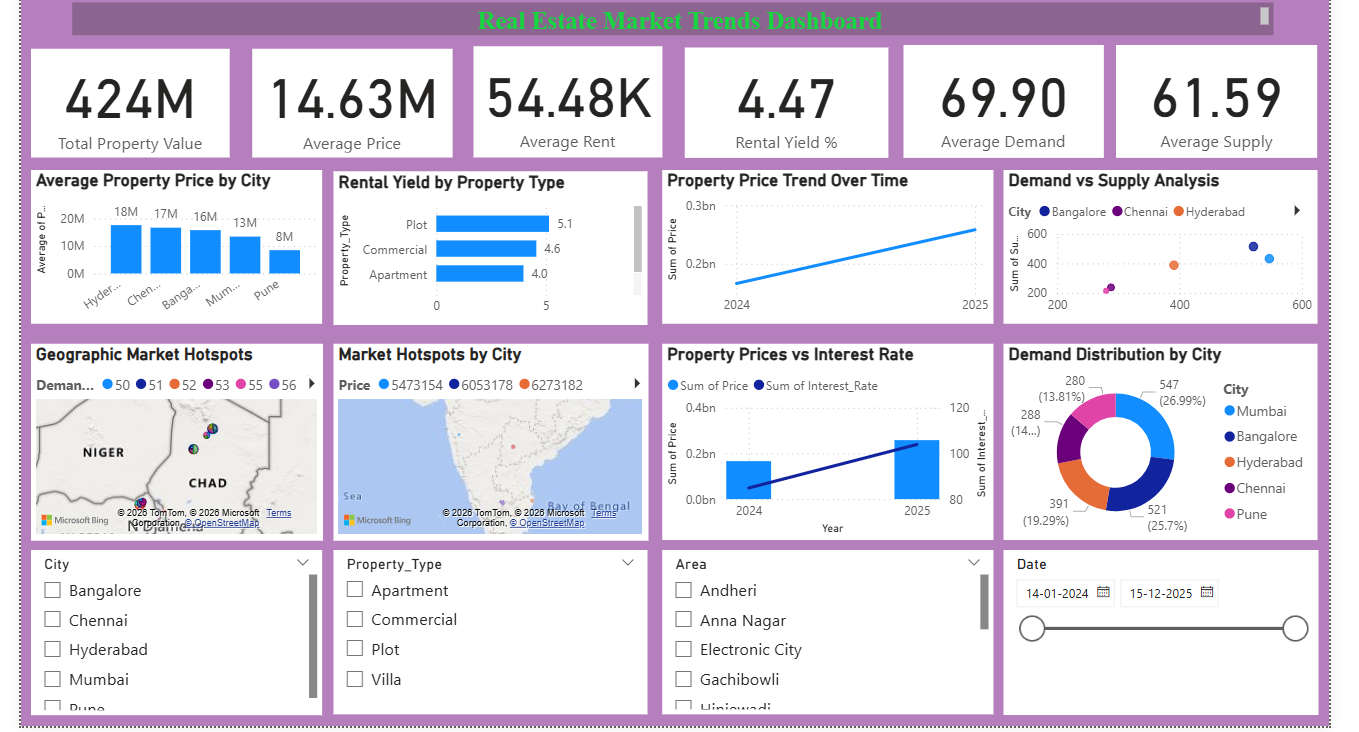

Layout of this report page (visuals, bound fields, positions):
{"tool":"powerbi","page":{"name":"Dashboard","canvas":[1280,720],"ordinal":0},"visuals":[{"type":"card","fields":{"Values":["RealEstateData.Total Property Value"]},"box":[9.8,57.5,194.4,106.4],"z":0},{"type":"card","fields":{"Values":["RealEstateData.Average Rent"]},"box":[442.7,55,184.6,108.8],"z":1000},{"type":"card","fields":{"Values":["RealEstateData.Average Price"]},"box":[226.2,57.5,195.7,106.4],"z":2000},{"type":"card","fields":{"Values":["RealEstateData.Rental Yield %"]},"box":[649.3,56.3,199.3,107.6],"z":3000},{"type":"card","fields":{"Values":["RealEstateData.Average Demand"]},"box":[863.3,53.8,195.7,110.1],"z":4000},{"type":"card","fields":{"Values":["RealEstateData.Average Supply"]},"box":[1071.2,53.8,196.9,110.1],"z":5000},{"type":"clusteredColumnChart","title":"Average Property Price by City","fields":{"Category":["RealEstateData.City"],"Y":["Avg(RealEstateData.Price)"]},"box":[9.8,176.1,284.9,150.4],"z":6000},{"type":"clusteredBarChart","title":"Rental Yield by Property Type","fields":{"Category":["RealEstateData.Property_Type"],"Y":["RealEstateData.Rental Yield %"]},"box":[305.7,177.3,306.9,150.4],"z":7000},{"type":"lineChart","title":"Property Price Trend Over Time","fields":{"Category":["RealEstateData.Date.Variation.Date Hierarchy.Year","RealEstateData.Date.Variation.Date Hierarchy.Quarter","RealEstateData.Date.Variation.Date Hierarchy.Month","RealEstateData.Date.Variation.Date Hierarchy.Day"],"Y":["Sum(RealEstateData.Price)"]},"box":[627.3,176.1,324.1,150.4],"z":8000},{"type":"scatterChart","title":"Demand vs Supply Analysis","fields":{"X":["Sum(RealEstateData.Demand_Score)"],"Y":["Sum(RealEstateData.Supply_Score)"],"Size":["Sum(RealEstateData.Price)"],"Series":["RealEstateData.City"]},"box":[961.1,176.1,306.9,150.4],"z":9000},{"type":"map","title":"Geographic Market Hotspots","fields":{"Y":["RealEstateData.Latitude"],"X":["RealEstateData.Latitude"],"Size":["Sum(RealEstateData.Price)"],"Series":["RealEstateData.Demand_Score"]},"box":[9.8,346.1,284.9,192],"z":10000},{"type":"filledMap","title":"Market Hotspots by City","fields":{"Category":["RealEstateData.City"],"Series":["RealEstateData.Price"]},"box":[305.7,346.1,306.9,192],"z":11000},{"type":"lineClusteredColumnComboChart","title":"Property Prices vs Interest Rate","fields":{"Category":["RealEstateData.Date.Variation.Date Hierarchy.Year","RealEstateData.Date.Variation.Date Hierarchy.Quarter","RealEstateData.Date.Variation.Date Hierarchy.Month","RealEstateData.Date.Variation.Date Hierarchy.Day"],"Y":["Sum(RealEstateData.Price)"],"Y2":["Sum(RealEstateData.Interest_Rate)"]},"box":[627.3,346.1,324.1,192],"z":12000},{"type":"donutChart","title":"Demand Distribution by City","fields":{"Category":["RealEstateData.City"],"Y":["Sum(RealEstateData.Demand_Score)"]},"box":[961.1,346.1,306.9,192],"z":13000},{"type":"slicer","fields":{"Values":["RealEstateData.City"]},"box":[9.8,547.8,284.9,161.4],"z":14000},{"type":"slicer","fields":{"Values":["RealEstateData.Property_Type"]},"box":[306,548,307,161],"z":15000},{"type":"slicer","fields":{"Values":["RealEstateData.Area"]},"box":[627,548,324,161],"z":16000},{"type":"slicer","fields":{"Values":["RealEstateData.Date"]},"box":[961,548,307,161],"z":17000},{"type":"textbox","box":[50.1,12.2,1175.1,31.8],"z":18000}]}

Visuals, with their boxes in screenshot pixels (x1, y1, x2, y2):
card - RealEstateData.Total Property Value: (17, 42, 220, 153)
card - RealEstateData.Average Rent: (468, 40, 660, 153)
card - RealEstateData.Average Price: (242, 42, 446, 153)
card - RealEstateData.Rental Yield %: (683, 41, 890, 153)
card - RealEstateData.Average Demand: (905, 38, 1109, 153)
card - RealEstateData.Average Supply: (1121, 38, 1326, 153)
"Average Property Price by City" clusteredColumnChart: (17, 165, 314, 322)
"Rental Yield by Property Type" clusteredBarChart: (325, 167, 644, 323)
"Property Price Trend Over Time" lineChart: (660, 165, 997, 322)
"Demand vs Supply Analysis" scatterChart: (1007, 165, 1326, 322)
"Geographic Market Hotspots" map: (17, 342, 314, 542)
"Market Hotspots by City" filledMap: (325, 342, 644, 542)
"Property Prices vs Interest Rate" lineClusteredColumnComboChart: (660, 342, 997, 542)
"Demand Distribution by City" donutChart: (1007, 342, 1326, 542)
slicer - RealEstateData.City: (17, 552, 314, 720)
slicer - RealEstateData.Property_Type: (325, 552, 645, 720)
slicer - RealEstateData.Area: (659, 552, 996, 720)
slicer - RealEstateData.Date: (1007, 552, 1326, 720)
textbox: (59, 0, 1282, 28)
